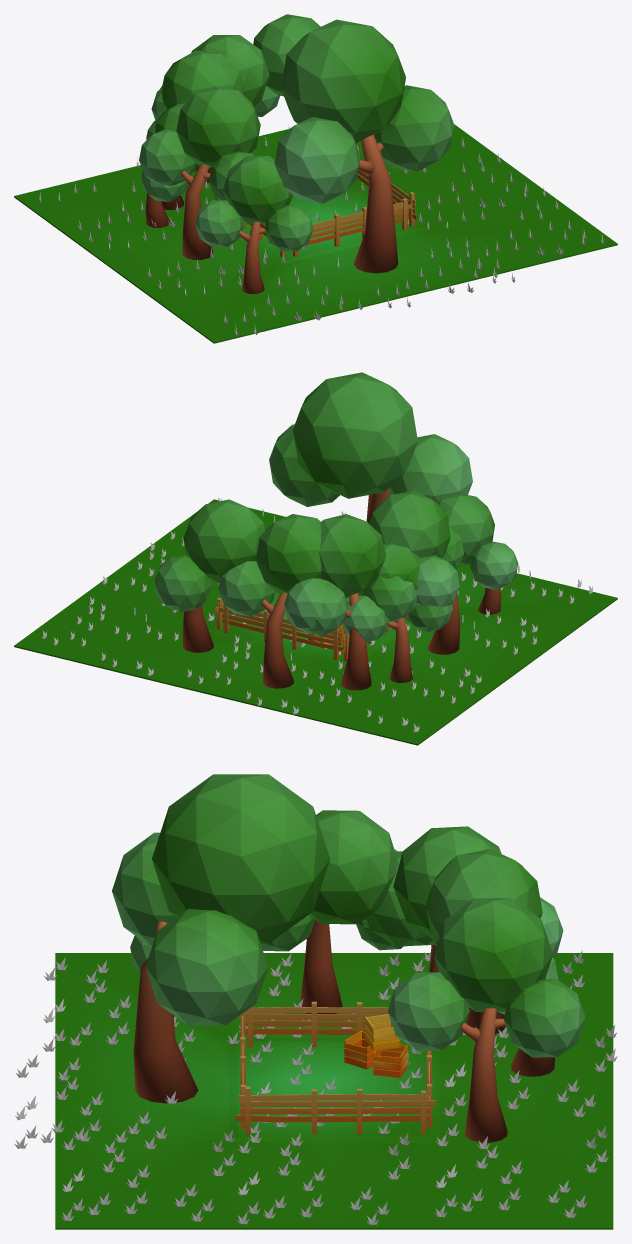
File: ФОН ИГРА.fbx
The picture shows the model from 3 angles, top to bottom: view 1: azimuth 30°, elevation 25°; view 2: azimuth 150°, elevation 25°; view 3: azimuth 270°, elevation 25°; orthographic projection. The views are drawn at different scales.
Parts seen in each view (by area): view 1: Cube, Cylinder, Cylinder.001, Cylinder.003, Cylinder.002, Cylinder.005, Cylinder.004, Cube.033, Cylinder.006, Cube.041, Cube.039, Cube.042 (+1 smaller); view 2: Cube, Cylinder, Cylinder.005, Cylinder.002, Cylinder.004, Cylinder.001, Cylinder.006, Cylinder.003, Cube.033, Cube.044, Cube.043, Cube.037; view 3: Cube, Cylinder, Cylinder.004, Cylinder.001, Cube.033, Cylinder.005, Cylinder.002, Cube.035, Cylinder.006, Cube.042, Cube.041, Cube.043 (+5 smaller).
Part boxes in pixels (x1,y1,x2,y2): Cube: (14, 124, 617, 343); Cylinder: (274, 19, 454, 273); Cylinder.001: (139, 85, 260, 259); Cylinder.003: (195, 156, 313, 293); Cylinder.002: (146, 50, 243, 209); Cylinder.005: (151, 35, 279, 182); Cylinder.004: (253, 14, 320, 96); Cube.033: (215, 170, 416, 257); Cylinder.006: (141, 103, 199, 227); Cube.041: (427, 199, 604, 269); Cube.039: (185, 265, 362, 335); Cube.042: (389, 152, 546, 222); Cube: (14, 499, 617, 745); Cylinder: (269, 372, 472, 523); Cylinder.005: (218, 514, 347, 688); Cylinder.002: (284, 514, 416, 690); Cylinder.004: (154, 499, 264, 652); Cylinder.001: (369, 491, 463, 654); Cylinder.006: (342, 543, 452, 682); Cylinder.003: (437, 493, 518, 614); Cube.033: (214, 595, 388, 661); Cube.044: (187, 635, 342, 714); Cube.043: (42, 596, 208, 675); Cube.037: (308, 661, 474, 732); Cube: (55, 953, 613, 1229); Cylinder: (112, 774, 330, 1103); Cylinder.004: (388, 898, 585, 1142); Cylinder.001: (261, 810, 398, 1013); Cube.033: (235, 1001, 435, 1134); Cylinder.005: (426, 849, 558, 1076); Cylinder.002: (393, 826, 563, 1033); Cube.035: (344, 1014, 408, 1078); Cylinder.006: (356, 851, 438, 972); Cube.042: (236, 1130, 410, 1224); Cube.041: (61, 1127, 235, 1221); Cube.043: (434, 1123, 608, 1217).
Bounding box in the file's own units: 1180 × 648 × 1096.
